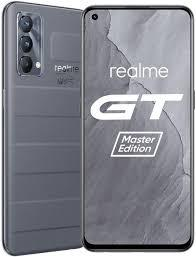Smartphone: (82, 8, 189, 253), (8, 3, 80, 250)
